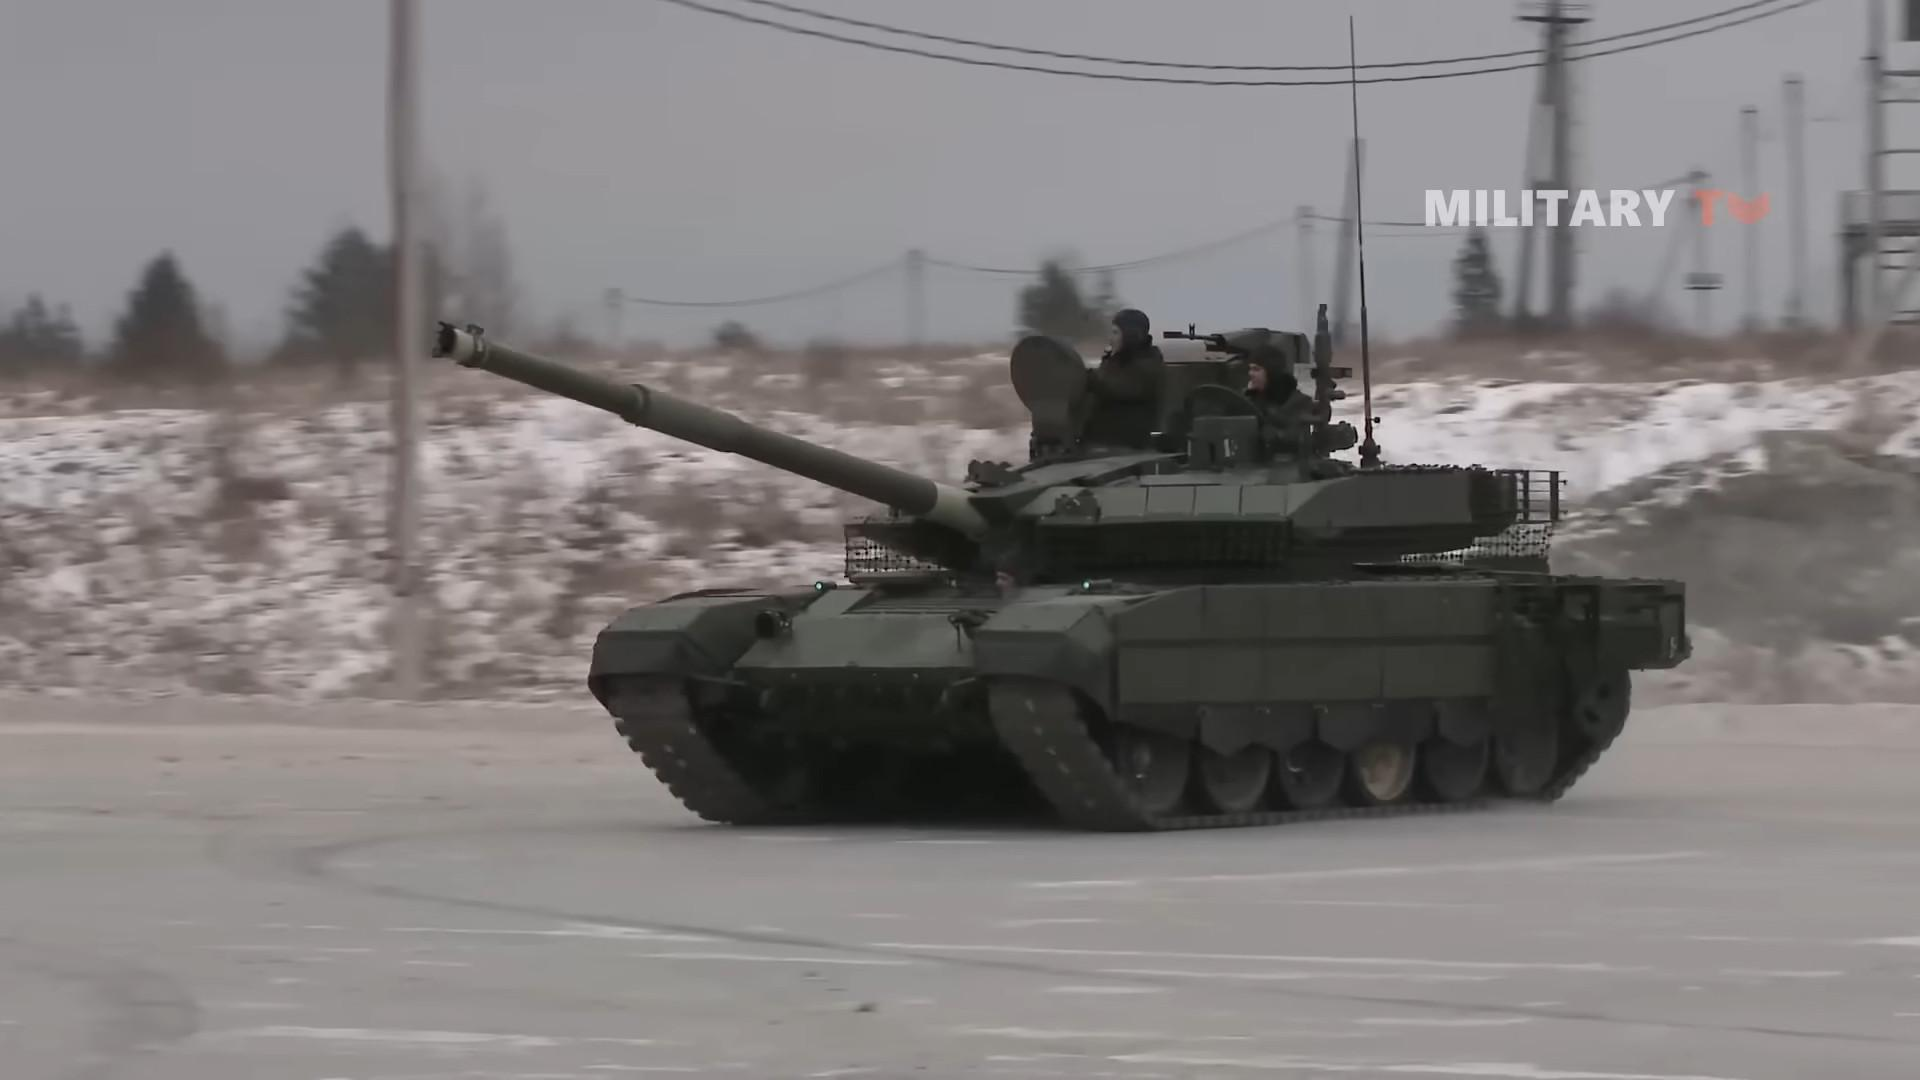tank: (438, 303, 1692, 829)
